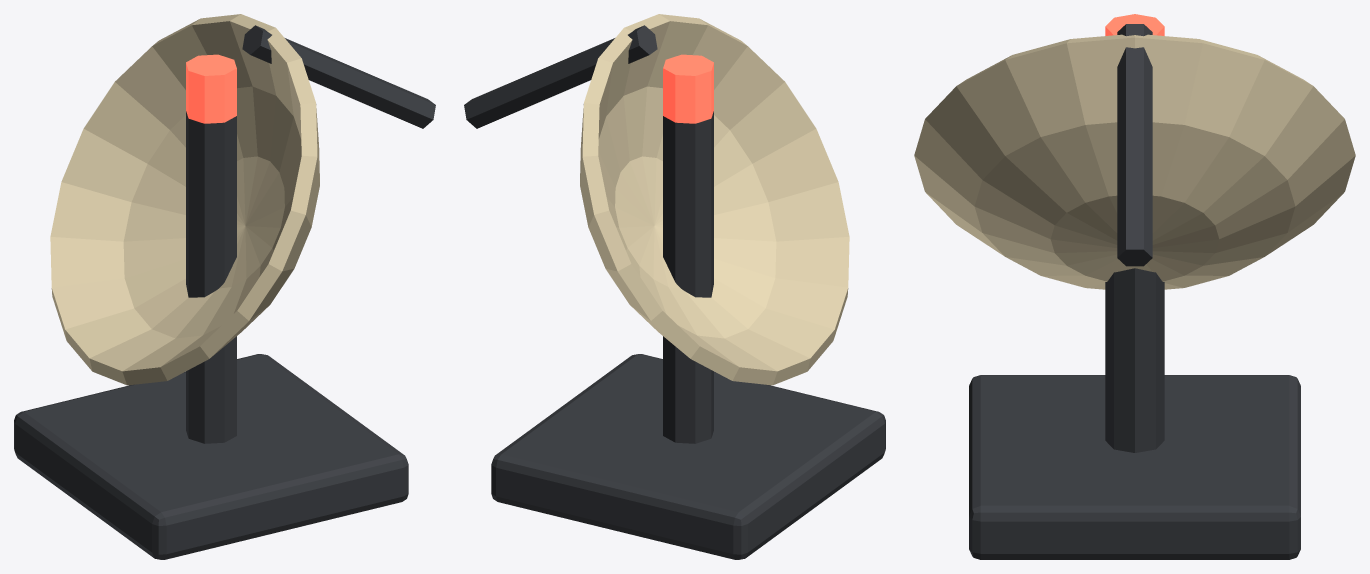
File: ansible-mk1.glb
3 views of the same model, side by side, from view 1: azimuth 30°, elevation 25°; view 2: azimuth 150°, elevation 25°; view 3: azimuth 270°, elevation 25° (orthographic). The views are drawn at different scales.
Parts seen in each view (by area): view 1: ansible_mk1 body, ansible tip; view 2: ansible_mk1 body, ansible tip; view 3: ansible_mk1 body, ansible tip.
Part boxes in pixels (bbox=[...]): ansible_mk1 body: bbox=[14, 14, 435, 559]; ansible tip: bbox=[186, 54, 236, 123]; ansible_mk1 body: bbox=[464, 14, 885, 559]; ansible tip: bbox=[663, 54, 713, 123]; ansible_mk1 body: bbox=[914, 24, 1355, 559]; ansible tip: bbox=[1105, 14, 1164, 35].
Size of the model in its own units: 0.7634 by 0.9234 by 0.7443.
